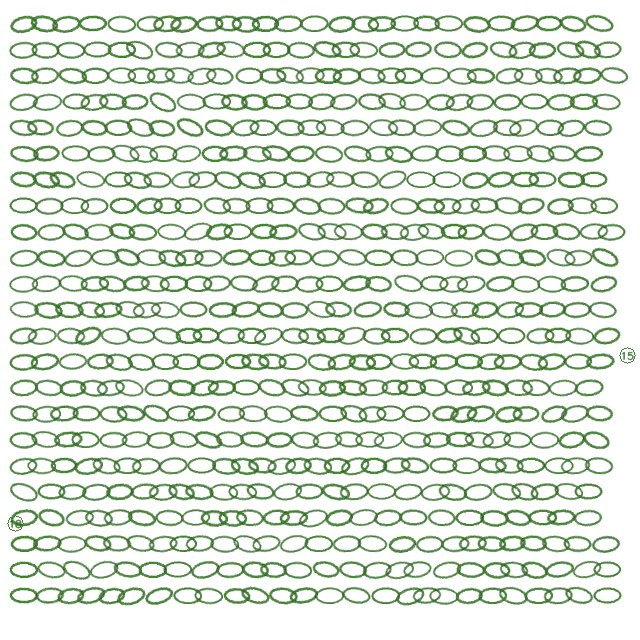chain: (146, 88, 179, 116), (173, 114, 206, 141), (588, 244, 621, 271), (123, 37, 156, 63), (450, 323, 483, 349), (7, 479, 40, 505), (60, 557, 93, 583), (124, 115, 157, 140), (376, 167, 409, 192), (572, 37, 604, 62), (182, 219, 214, 244), (111, 245, 143, 270), (72, 323, 104, 348), (140, 401, 172, 426), (252, 324, 285, 348), (297, 506, 330, 530), (212, 168, 244, 192), (508, 220, 540, 244), (250, 272, 282, 296), (192, 428, 224, 452), (339, 454, 371, 478), (231, 532, 263, 556), (115, 584, 147, 608), (143, 584, 175, 608), (394, 584, 426, 608), (507, 116, 540, 139), (47, 168, 78, 192), (539, 402, 570, 426), (581, 428, 612, 452), (583, 12, 615, 35), (311, 38, 343, 61), (274, 64, 306, 87), (376, 90, 408, 113), (109, 142, 141, 165), (296, 220, 328, 243), (545, 246, 577, 269), (392, 272, 424, 295), (305, 298, 337, 321), (336, 324, 368, 347), (256, 376, 288, 399), (279, 376, 311, 399), (559, 402, 591, 425), (278, 532, 310, 555), (88, 558, 120, 581), (189, 558, 221, 581), (571, 558, 603, 581), (75, 584, 107, 607), (239, 584, 271, 607), (497, 584, 529, 607), (563, 584, 595, 607), (472, 246, 503, 269), (338, 402, 369, 425), (509, 480, 540, 503), (36, 506, 67, 529), (186, 65, 218, 87), (156, 247, 188, 269), (113, 377, 145, 399), (431, 559, 463, 581), (8, 13, 39, 35), (196, 39, 227, 61), (488, 39, 519, 61), (555, 39, 586, 61), (8, 91, 39, 113), (444, 91, 475, 113), (440, 117, 471, 139), (468, 117, 499, 139), (342, 143, 373, 165), (383, 143, 414, 165), (122, 169, 153, 191), (236, 169, 267, 191), (292, 195, 323, 217), (516, 195, 547, 217), (60, 221, 91, 243), (63, 247, 94, 269), (97, 273, 128, 295), (151, 325, 182, 347), (326, 351, 357, 373), (189, 377, 220, 399), (448, 403, 479, 425), (73, 455, 104, 477), (91, 455, 122, 477), (229, 455, 260, 477), (266, 455, 297, 477), (166, 481, 197, 503), (320, 481, 351, 503), (437, 481, 468, 503), (126, 507, 157, 529), (36, 559, 67, 581), (384, 559, 415, 581), (519, 559, 550, 581), (316, 221, 348, 242), (114, 299, 146, 320), (558, 13, 588, 35), (460, 39, 490, 61), (507, 39, 537, 61), (556, 117, 586, 139), (361, 195, 391, 217), (589, 273, 619, 295), (104, 351, 134, 373), (126, 351, 156, 373), (503, 507, 533, 529), (97, 585, 127, 607), (509, 13, 540, 34), (215, 39, 246, 60), (203, 117, 234, 138), (230, 117, 261, 138), (171, 143, 202, 164), (260, 143, 291, 164), (525, 143, 556, 164), (75, 169, 106, 190), (170, 169, 201, 190), (187, 169, 218, 190), (305, 169, 336, 190), (493, 195, 524, 216), (416, 221, 447, 242), (551, 221, 582, 242), (221, 247, 252, 268), (337, 247, 368, 268), (341, 273, 372, 294), (230, 299, 261, 320), (352, 299, 383, 320), (8, 325, 39, 346), (29, 351, 60, 372), (536, 351, 567, 372), (418, 377, 449, 398), (115, 403, 146, 424), (186, 403, 217, 424), (465, 403, 496, 424), (30, 429, 61, 450), (168, 429, 199, 450), (481, 429, 512, 450), (399, 455, 430, 476), (245, 481, 276, 502), (272, 481, 303, 502), (491, 481, 522, 502), (529, 481, 560, 502), (553, 481, 584, 502), (348, 507, 379, 528), (125, 533, 156, 554), (251, 533, 282, 554), (112, 559, 143, 580), (402, 559, 433, 580), (544, 559, 575, 580), (288, 585, 319, 606), (341, 585, 372, 606), (29, 13, 59, 34), (599, 65, 629, 86), (31, 169, 61, 190), (486, 169, 516, 190), (202, 195, 232, 216), (107, 221, 137, 242), (204, 221, 234, 242), (495, 247, 525, 268), (517, 247, 547, 268), (76, 299, 106, 320), (470, 299, 500, 320), (495, 299, 525, 320), (592, 325, 622, 346), (143, 377, 173, 398), (480, 377, 510, 398), (557, 429, 587, 450), (9, 507, 39, 528), (324, 507, 354, 528), (83, 533, 113, 554), (311, 559, 341, 580), (57, 66, 88, 86), (494, 66, 525, 86), (32, 92, 63, 112), (79, 92, 110, 112), (8, 118, 39, 138), (128, 144, 159, 164), (399, 222, 430, 242), (100, 326, 131, 346), (306, 352, 337, 372), (518, 352, 549, 372), (337, 378, 368, 398), (263, 404, 294, 424), (312, 430, 343, 450), (373, 430, 404, 450), (8, 456, 39, 476), (302, 456, 333, 476), (420, 482, 451, 502), (51, 14, 81, 34), (591, 92, 621, 112), (147, 118, 177, 138), (9, 144, 39, 164), (242, 144, 272, 164), (314, 144, 344, 164), (451, 196, 481, 216), (9, 248, 39, 268), (36, 248, 66, 268), (456, 274, 486, 294), (485, 274, 515, 294), (33, 300, 63, 320), (93, 300, 123, 320), (132, 300, 162, 320), (150, 300, 180, 320), (428, 300, 458, 320), (27, 326, 57, 346), (297, 326, 327, 346), (34, 378, 64, 398), (79, 378, 109, 398), (96, 378, 126, 398), (461, 378, 491, 398), (290, 430, 320, 450), (464, 430, 494, 450), (211, 456, 241, 476), (81, 482, 111, 502), (184, 482, 214, 502), (393, 482, 423, 502), (463, 482, 493, 502), (65, 508, 95, 528), (84, 508, 114, 528), (148, 534, 178, 554), (387, 534, 417, 554), (541, 534, 571, 554), (591, 534, 621, 554), (362, 560, 392, 580), (499, 560, 529, 580), (56, 586, 86, 606), (368, 118, 399, 137), (412, 118, 443, 137), (567, 196, 598, 215), (333, 222, 364, 241), (136, 248, 167, 267), (31, 274, 62, 293), (358, 378, 389, 397), (560, 456, 591, 475), (357, 534, 388, 553), (169, 14, 198, 34), (327, 14, 356, 34), (462, 14, 491, 34), (154, 40, 183, 60), (205, 66, 234, 86), (357, 66, 386, 86), (534, 66, 563, 86), (220, 92, 249, 112), (329, 92, 358, 112), (55, 118, 84, 138), (80, 118, 109, 138), (461, 170, 490, 190), (546, 196, 575, 216), (364, 274, 393, 294), (256, 300, 285, 320), (588, 300, 617, 320), (494, 404, 523, 424), (455, 586, 484, 606), (152, 14, 182, 33), (273, 14, 303, 33), (433, 40, 463, 59), (9, 66, 39, 85), (30, 66, 60, 85), (146, 66, 176, 85), (164, 66, 194, 85), (295, 66, 325, 85), (420, 66, 450, 85), (552, 66, 582, 85), (572, 66, 602, 85), (98, 92, 128, 111), (357, 92, 387, 111), (275, 118, 305, 137), (315, 118, 345, 137), (387, 118, 417, 137), (492, 118, 522, 137), (218, 144, 248, 163), (410, 144, 440, 163), (481, 144, 511, 163), (547, 144, 577, 163), (282, 170, 312, 189), (325, 170, 355, 189), (350, 170, 380, 189), (344, 196, 374, 215), (380, 222, 410, 241), (579, 222, 609, 241), (174, 248, 204, 267), (58, 274, 88, 293), (140, 274, 170, 293), (202, 274, 232, 293), (229, 274, 259, 293), (9, 300, 39, 319), (54, 300, 84, 319), (450, 300, 480, 319), (216, 326, 246, 345), (58, 352, 88, 371), (240, 352, 270, 371), (257, 352, 287, 371), (585, 352, 615, 371), (9, 378, 39, 397), (297, 378, 327, 397), (504, 378, 534, 397), (521, 378, 551, 397), (574, 378, 604, 397), (9, 404, 39, 423), (49, 404, 79, 423), (238, 404, 268, 423), (289, 404, 319, 423), (53, 430, 83, 449), (121, 430, 151, 449), (215, 430, 245, 449), (239, 430, 269, 449), (334, 430, 364, 449), (158, 456, 188, 475), (247, 456, 277, 475), (477, 456, 507, 475), (494, 456, 524, 475), (584, 456, 614, 475), (130, 482, 160, 501), (339, 482, 369, 501), (103, 508, 133, 527), (235, 508, 265, 527), (373, 508, 403, 527), (546, 508, 576, 527), (32, 534, 62, 553), (102, 534, 132, 553), (185, 534, 215, 553), (332, 534, 362, 553), (458, 534, 488, 553), (338, 560, 368, 579), (35, 586, 65, 605), (268, 586, 298, 605), (412, 586, 442, 605), (543, 586, 573, 605), (176, 93, 207, 111), (214, 14, 243, 33), (412, 14, 441, 33), (404, 40, 433, 59), (593, 40, 622, 59), (307, 92, 336, 111), (26, 118, 55, 137), (32, 144, 61, 163), (287, 144, 316, 163), (9, 170, 38, 189), (135, 196, 164, 215), (360, 222, 389, 241), (390, 248, 419, 267), (122, 274, 151, 293), (270, 274, 299, 293), (324, 300, 353, 319), (382, 300, 411, 319), (538, 300, 567, 319), (435, 326, 464, 345), (86, 352, 115, 371), (476, 352, 505, 371), (167, 378, 196, 397), (431, 404, 460, 423), (585, 404, 614, 423), (284, 456, 313, 475), (382, 456, 411, 475), (105, 482, 134, 501), (262, 508, 291, 527), (427, 508, 456, 527), (498, 534, 527, 553), (519, 534, 548, 553), (241, 560, 270, 579), (175, 41, 205, 59), (286, 41, 316, 59), (447, 67, 477, 85), (513, 67, 543, 85), (426, 93, 456, 111), (546, 93, 576, 111), (583, 119, 613, 137), (84, 223, 114, 241), (268, 223, 298, 241), (482, 223, 512, 241), (562, 301, 592, 319), (56, 327, 86, 345), (280, 327, 310, 345), (548, 379, 578, 397), (422, 431, 452, 449), (131, 457, 161, 475), (148, 483, 178, 501), (479, 509, 509, 527), (573, 509, 603, 527), (57, 535, 87, 553), (429, 587, 459, 605), (107, 15, 136, 33), (231, 15, 260, 33), (367, 15, 396, 33), (9, 41, 38, 59), (31, 41, 60, 59), (56, 41, 85, 59), (349, 41, 378, 59), (332, 67, 361, 85), (466, 67, 495, 85), (240, 93, 269, 111), (399, 93, 428, 111), (493, 93, 522, 111), (340, 119, 369, 137), (87, 145, 116, 163), (365, 145, 394, 163), (574, 145, 603, 163), (143, 171, 172, 189), (35, 197, 64, 215), (80, 197, 109, 215), (222, 197, 251, 215), (317, 197, 346, 215), (390, 197, 419, 215), (416, 197, 445, 215), (433, 197, 462, 215), (37, 223, 66, 241), (128, 223, 157, 241), (157, 223, 186, 241), (597, 223, 626, 241), (194, 249, 223, 267), (311, 249, 340, 267), (444, 249, 473, 267), (564, 249, 593, 267), (9, 275, 38, 293), (80, 275, 109, 293), (295, 275, 324, 293), (439, 275, 468, 293), (511, 275, 540, 293), (537, 275, 566, 293), (560, 275, 589, 293), (208, 301, 237, 319), (280, 301, 309, 319), (404, 301, 433, 319), (514, 301, 543, 319), (362, 327, 391, 345), (409, 327, 438, 345), (526, 327, 555, 345), (565, 327, 594, 345), (9, 353, 38, 371), (429, 353, 458, 371), (493, 353, 522, 371), (207, 379, 236, 397), (32, 405, 61, 423), (99, 405, 128, 423), (358, 405, 387, 423), (9, 431, 38, 449), (99, 431, 128, 449), (146, 431, 175, 449), (265, 431, 294, 449), (402, 431, 431, 449), (503, 431, 532, 449), (530, 431, 559, 449), (27, 457, 56, 475), (58, 483, 87, 501), (209, 483, 238, 501), (228, 483, 257, 501), (155, 509, 184, 527), (218, 509, 247, 527), (279, 509, 308, 527), (210, 535, 239, 553), (415, 535, 444, 553), (441, 535, 470, 553), (477, 535, 506, 553), (563, 535, 592, 553), (216, 561, 245, 579), (259, 561, 288, 579), (283, 561, 312, 579), (456, 561, 485, 579), (194, 587, 223, 605), (503, 145, 533, 162), (406, 171, 436, 188), (544, 457, 574, 474), (136, 15, 164, 33), (196, 15, 224, 33), (351, 15, 379, 33), (378, 41, 406, 59), (528, 41, 556, 59), (259, 67, 287, 85), (121, 93, 149, 111), (466, 93, 494, 111), (10, 223, 38, 241), (457, 223, 485, 241), (268, 249, 296, 267), (348, 353, 376, 371), (59, 379, 87, 397), (318, 379, 346, 397), (217, 405, 245, 423), (512, 405, 540, 423), (200, 509, 228, 527), (483, 561, 511, 579), (223, 587, 251, 605), (78, 15, 107, 32), (300, 15, 329, 32), (390, 15, 419, 32), (434, 15, 463, 32), (487, 15, 516, 32), (83, 41, 112, 58), (107, 41, 136, 58), (242, 41, 271, 58), (262, 41, 291, 58), (331, 41, 360, 58), (81, 67, 110, 84), (107, 67, 136, 84), (127, 67, 156, 84), (377, 67, 406, 84), (394, 67, 423, 84), (202, 93, 231, 110), (262, 93, 291, 110), (520, 93, 549, 110), (569, 93, 598, 110), (104, 119, 133, 136), (297, 119, 326, 136), (61, 145, 90, 162), (149, 145, 178, 162), (435, 145, 464, 162), (458, 145, 487, 162), (104, 171, 133, 188), (258, 171, 287, 188), (432, 171, 461, 188), (510, 171, 539, 188), (528, 171, 557, 188), (9, 197, 38, 214), (60, 197, 89, 214), (153, 197, 182, 214), (174, 197, 203, 214), (245, 197, 274, 214), (266, 197, 295, 214), (470, 197, 499, 214), (223, 223, 252, 240), (530, 223, 559, 240), (91, 249, 120, 266), (284, 249, 313, 266), (364, 249, 393, 266), (415, 249, 444, 266), (159, 275, 188, 292), (184, 275, 213, 292), (315, 275, 344, 292), (420, 275, 449, 292), (179, 301, 208, 318), (126, 327, 155, 344), (237, 327, 266, 344), (316, 327, 345, 344), (380, 327, 409, 344), (470, 327, 499, 344), (497, 327, 526, 344), (172, 353, 201, 370), (278, 353, 307, 370), (390, 353, 419, 370), (408, 353, 437, 370), (454, 353, 483, 370), (397, 379, 426, 396), (444, 379, 473, 396), (72, 405, 101, 422), (166, 405, 195, 422), (318, 405, 347, 422), (376, 405, 405, 422), (402, 405, 431, 422), (71, 431, 100, 448), (355, 431, 384, 448), (445, 431, 474, 448), (113, 457, 142, 474), (187, 457, 216, 474), (429, 457, 458, 474), (452, 457, 481, 474), (516, 457, 545, 474), (37, 483, 66, 500), (295, 483, 324, 500), (367, 483, 396, 500), (574, 483, 603, 500), (181, 509, 210, 526), (399, 509, 428, 526), (455, 509, 484, 526), (528, 509, 557, 526), (304, 535, 333, 552), (9, 561, 38, 578), (138, 561, 167, 578), (163, 561, 192, 578), (9, 587, 38, 604), (173, 587, 202, 604), (315, 587, 344, 604), (371, 587, 400, 604), (478, 587, 507, 604), (524, 587, 553, 604), (593, 587, 622, 604), (251, 15, 279, 32), (535, 15, 563, 32), (235, 67, 263, 84), (314, 67, 342, 84), (62, 93, 90, 110), (285, 93, 313, 110), (249, 119, 277, 136), (536, 119, 564, 136), (201, 145, 229, 162), (557, 171, 585, 188), (580, 171, 608, 188), (109, 197, 137, 214), (590, 197, 618, 214), (250, 223, 278, 240), (440, 223, 468, 240), (248, 249, 276, 266), (175, 327, 203, 344), (192, 327, 220, 344), (544, 327, 572, 344), (151, 353, 179, 370), (196, 353, 224, 370), (224, 353, 252, 370), (365, 353, 393, 370), (564, 353, 592, 370), (232, 379, 260, 396), (381, 379, 409, 396), (50, 457, 78, 474), (323, 457, 351, 474), (360, 457, 388, 474), (10, 535, 38, 552), (169, 535, 197, 552), (593, 561, 621, 578)
noise: (617, 345, 637, 365), (5, 513, 25, 533)
